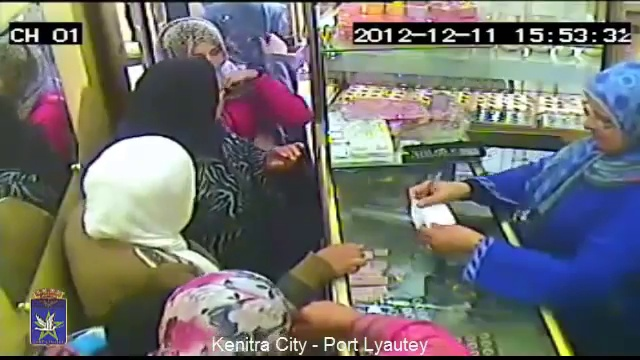face: (586, 92, 630, 157), (192, 38, 223, 71)
